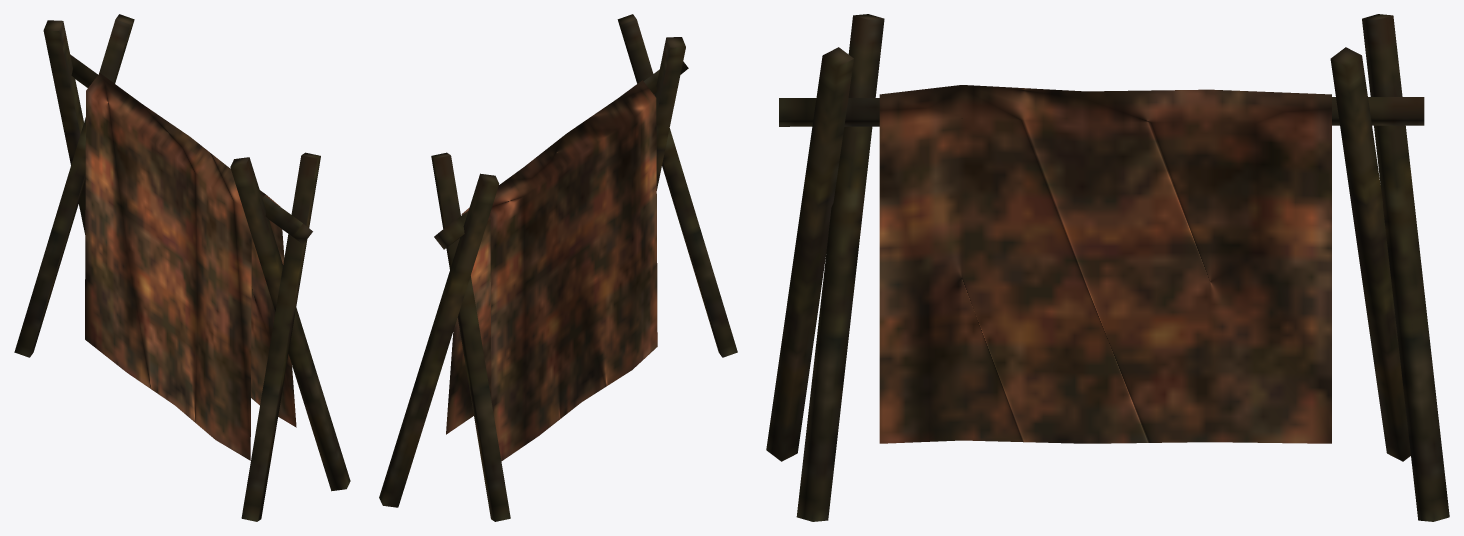
File: b_general_obj_02_01.glb
3 views of the same model, side by side, from view 1: azimuth 30°, elevation 25°; view 2: azimuth 150°, elevation 25°; view 3: azimuth 270°, elevation 25° (orthographic). The views are drawn at different scales.
Parts seen in each view (by area): view 1: B_general_obj_02; view 2: B_general_obj_02; view 3: B_general_obj_02.
Boxes of the visible parts, box(x1,y1,x2,y2) form: B_general_obj_02: box(14, 14, 350, 521); B_general_obj_02: box(379, 14, 737, 521); B_general_obj_02: box(766, 14, 1449, 521).
Bounding box in the file's own units: 1 × 2.66 × 3.61.
Materials: 1 (1 with a texture image).
